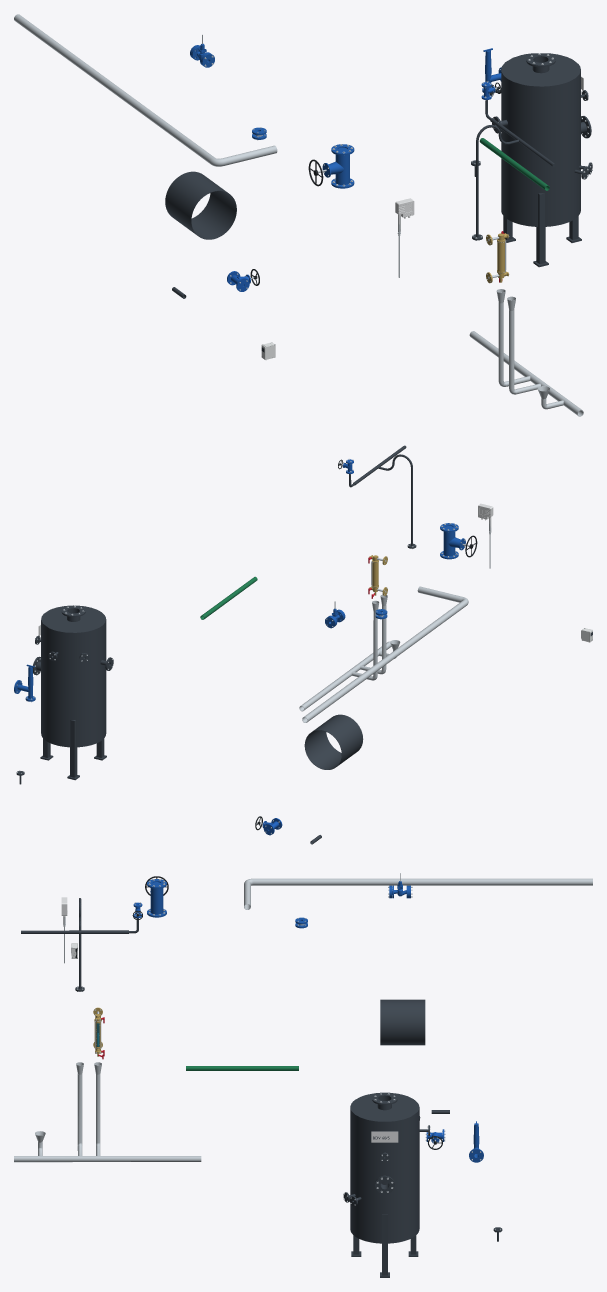
Rendered from s4000-3-DVhiq5_Z.glb.
3 renders of one model, top to bottom at view 1: azimuth 30°, elevation 25°; view 2: azimuth 150°, elevation 25°; view 3: azimuth 270°, elevation 25°, orthographic. The views are drawn at different scales.
Parts seen in each view (by area): view 1: separator_bdv60_5 / dark, flue_spacer / dark, safety_vent_1 / steel, local_open_drains / steel, pressure_header / dark, steam_manual / blue, sight_glasses_2 / sight_glasses_2_0.npz, pump_delivery / green; view 2: separator_bdv60_5 / dark, flue_spacer / dark, safety_vent_1 / steel, local_open_drains / steel, steam_manual / blue, pressure_header / dark; view 3: separator_bdv60_5 / dark, safety_vent_1 / steel, local_open_drains / steel, flue_spacer / dark, pressure_header / dark, steam_manual / blue, pump_delivery / green.
Part boxes in pixels (box(x1,y1,x2,y2)): separator_bdv60_5 / dark: box(489, 53, 592, 267); flue_spacer / dark: box(165, 171, 236, 239); safety_vent_1 / steel: box(14, 14, 277, 166); local_open_drains / steel: box(469, 289, 583, 416); pressure_header / dark: box(472, 100, 555, 240); steam_manual / blue: box(322, 144, 354, 188); sight_glasses_2 / sight_glasses_2_0.npz: box(486, 231, 509, 283); pump_delivery / green: box(479, 138, 549, 190); separator_bdv60_5 / dark: box(33, 605, 113, 780); flue_spacer / dark: box(304, 714, 363, 769); safety_vent_1 / steel: box(302, 586, 468, 722); local_open_drains / steel: box(299, 594, 400, 711); steam_manual / blue: box(440, 523, 465, 559); pressure_header / dark: box(349, 445, 416, 548); separator_bdv60_5 / dark: box(343, 1092, 429, 1277); safety_vent_1 / steel: box(244, 878, 592, 909); local_open_drains / steel: box(14, 1062, 201, 1162); flue_spacer / dark: box(380, 999, 425, 1045); pressure_header / dark: box(21, 898, 138, 991); steam_manual / blue: box(147, 879, 166, 917); pump_delivery / green: box(186, 1066, 298, 1070).
Size of the model in its own units: 5.57 by 3.35 by 6.4.
